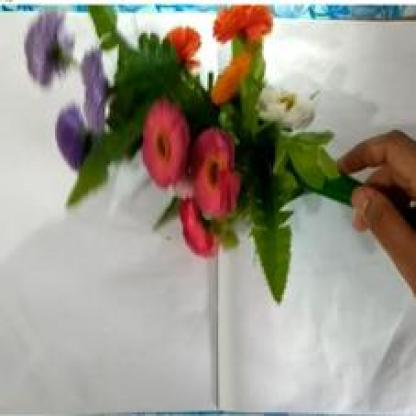flower: (23, 1, 352, 286)
